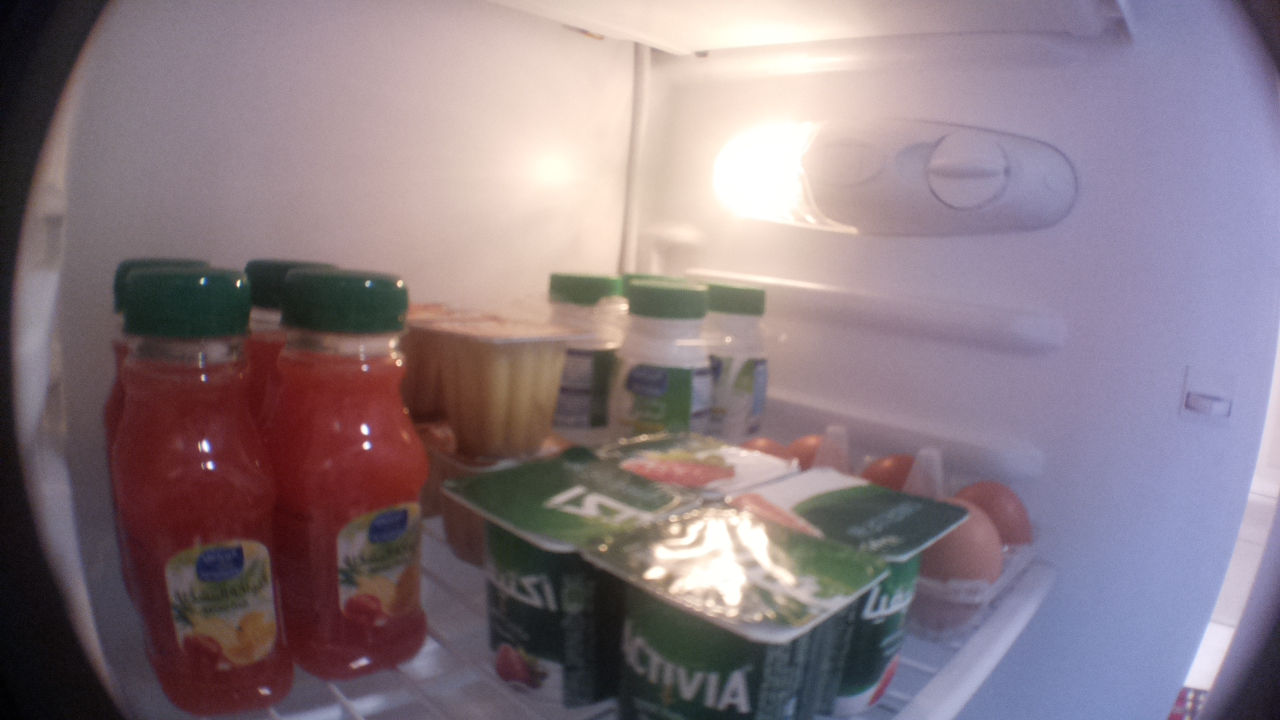caramel: (429, 321, 577, 460), (428, 431, 485, 574)
egg: (919, 484, 1012, 633), (956, 477, 1039, 574), (861, 449, 938, 498), (744, 425, 804, 459), (798, 430, 835, 466)
juice: (99, 267, 290, 712), (291, 271, 436, 681), (245, 259, 348, 316)
laban: (616, 280, 712, 440), (547, 259, 619, 441), (715, 280, 772, 434)
yoghurt: (613, 506, 859, 720), (789, 467, 947, 720), (473, 480, 620, 716), (571, 430, 792, 507)
